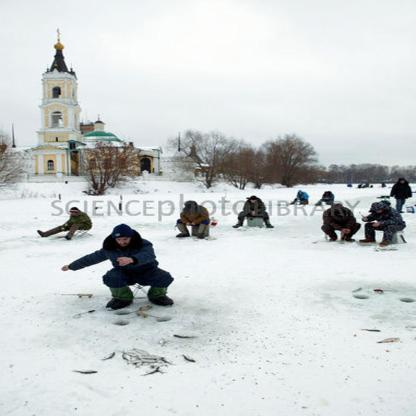face: (117, 236, 131, 247), (376, 208, 384, 214), (71, 211, 78, 216), (251, 200, 257, 204), (401, 181, 405, 184)
